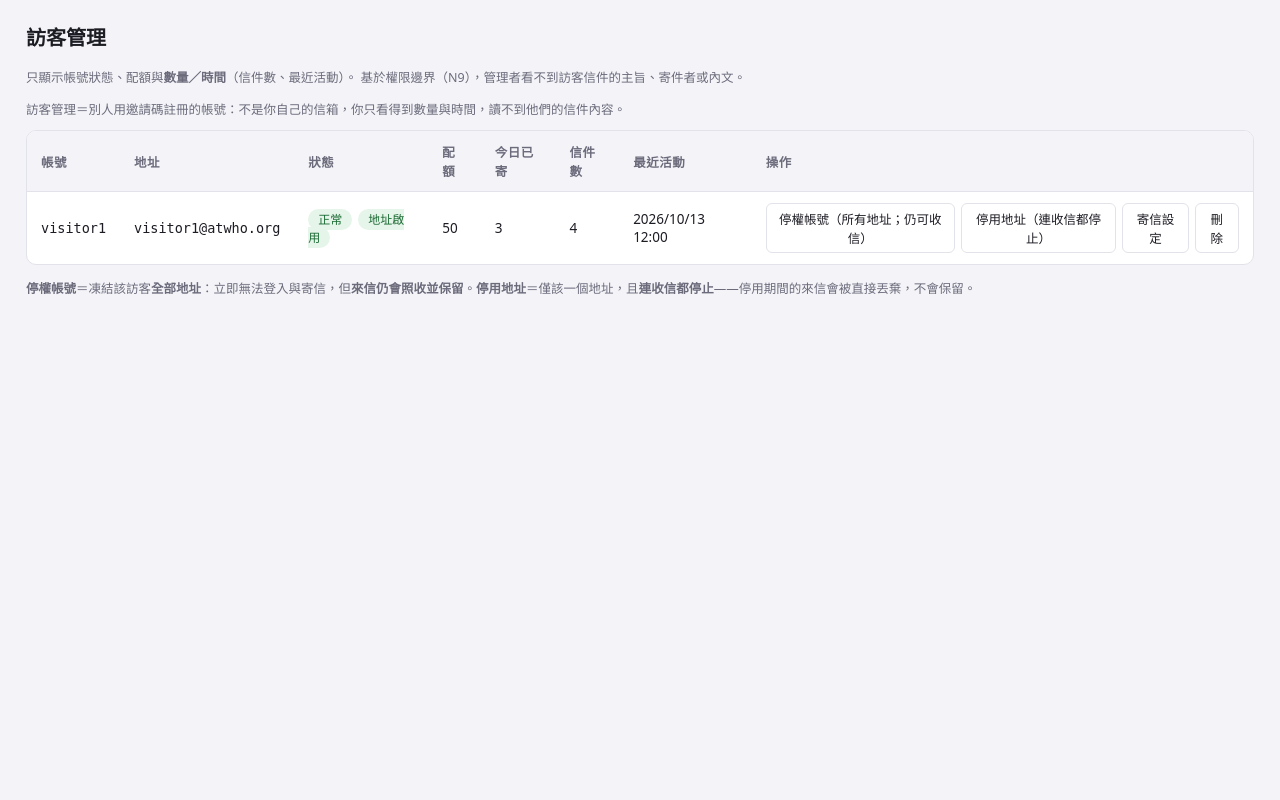
Test: T33-4（D9）：刪除訪客的二次確認 › 確定永久刪除 → 只送一次 DELETE /api/users/:id，並提示已刪除
The image size is (1280, 800).
What coordinates should you click on to do the following:
click the button "刪除"
I would click on:
 (1217, 228)
Its box is 1195,203 -> 1239,253.
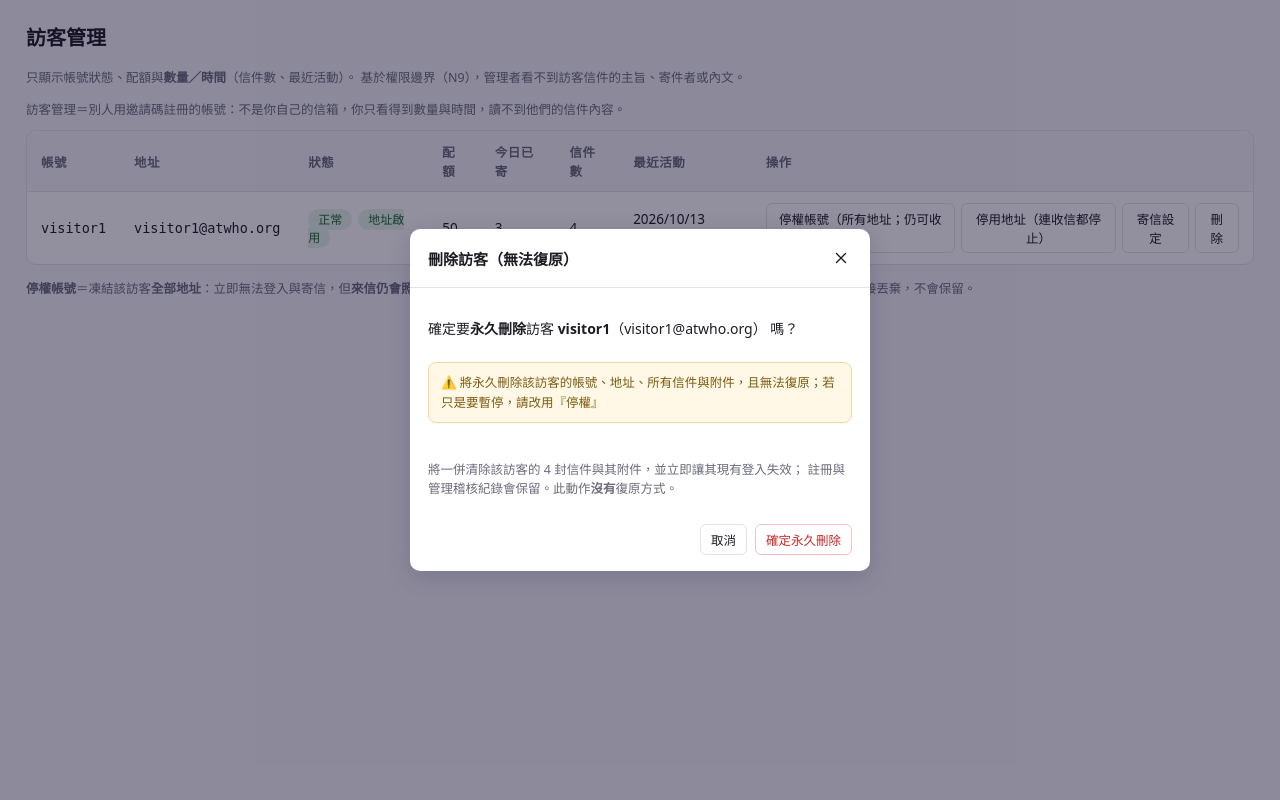
What coordinates should you click on to do the following:
click the button "確定永久刪除"
I would click on:
 (804, 539)
Its box is 755,524 -> 852,555.
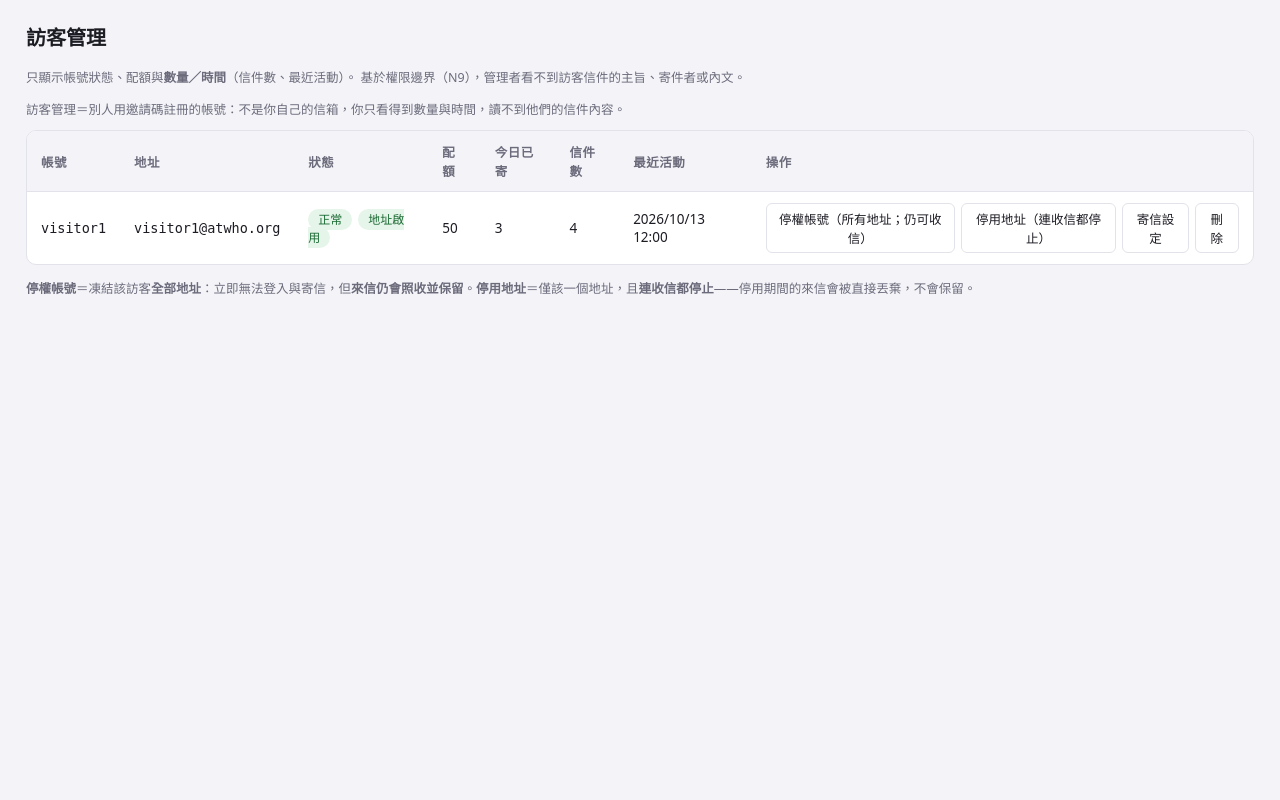
Expected: the dialog is gone
